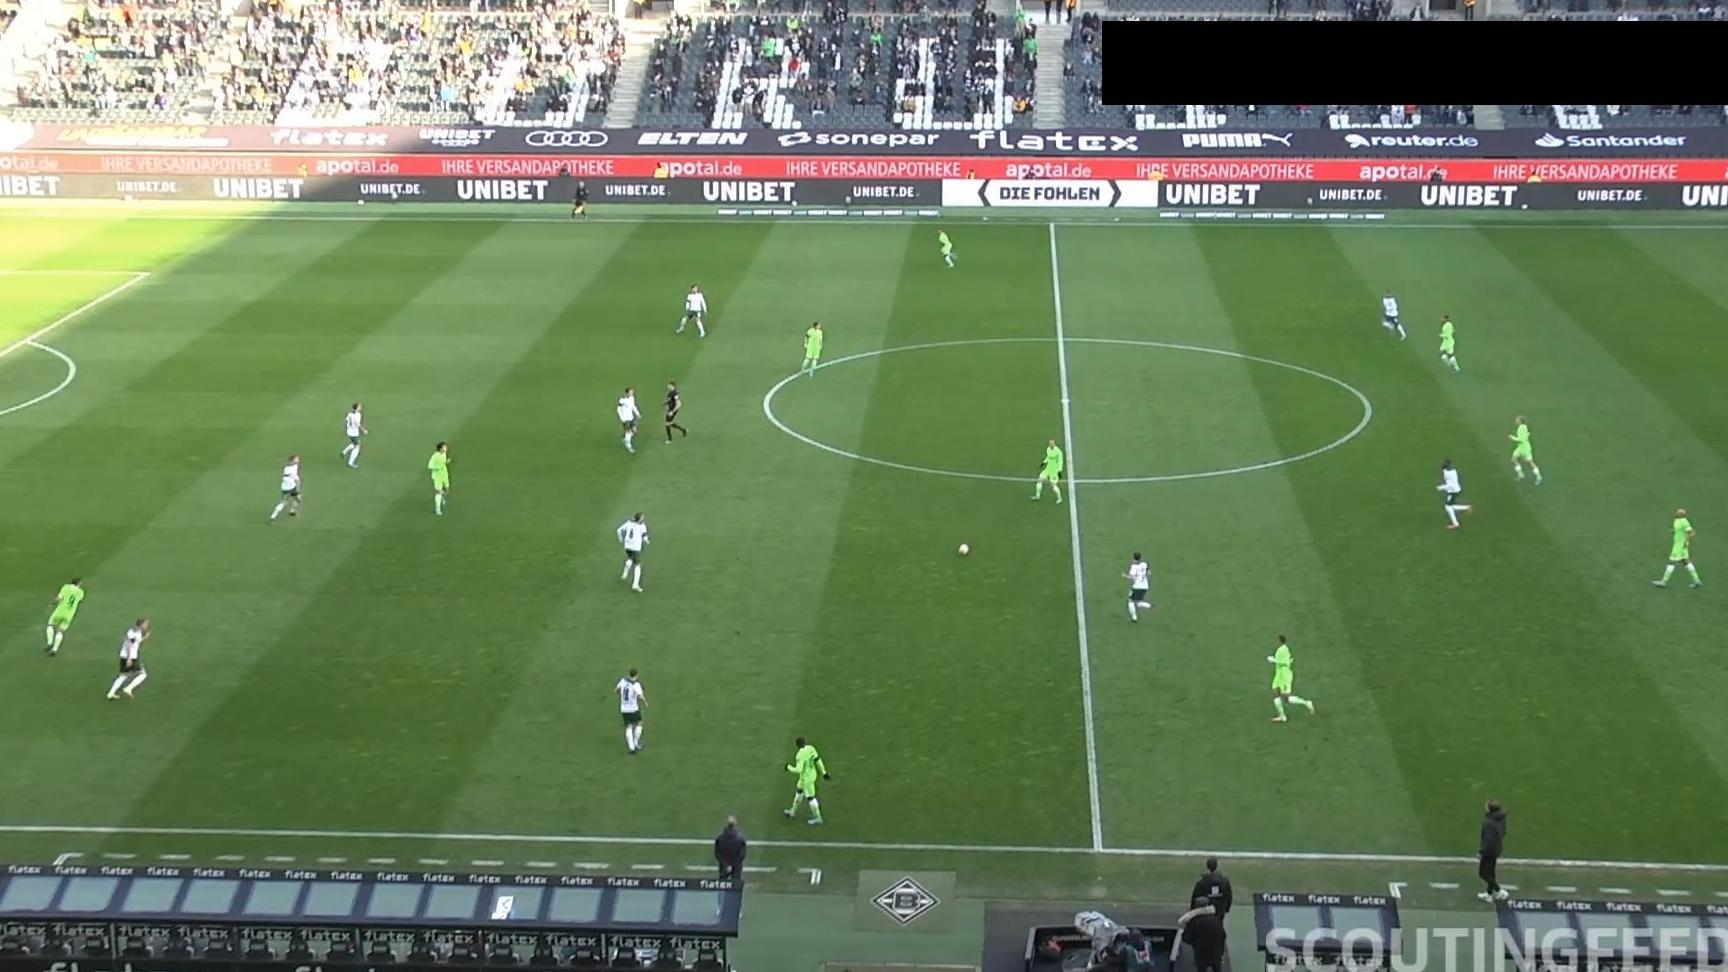ball: (958, 541, 972, 555)
